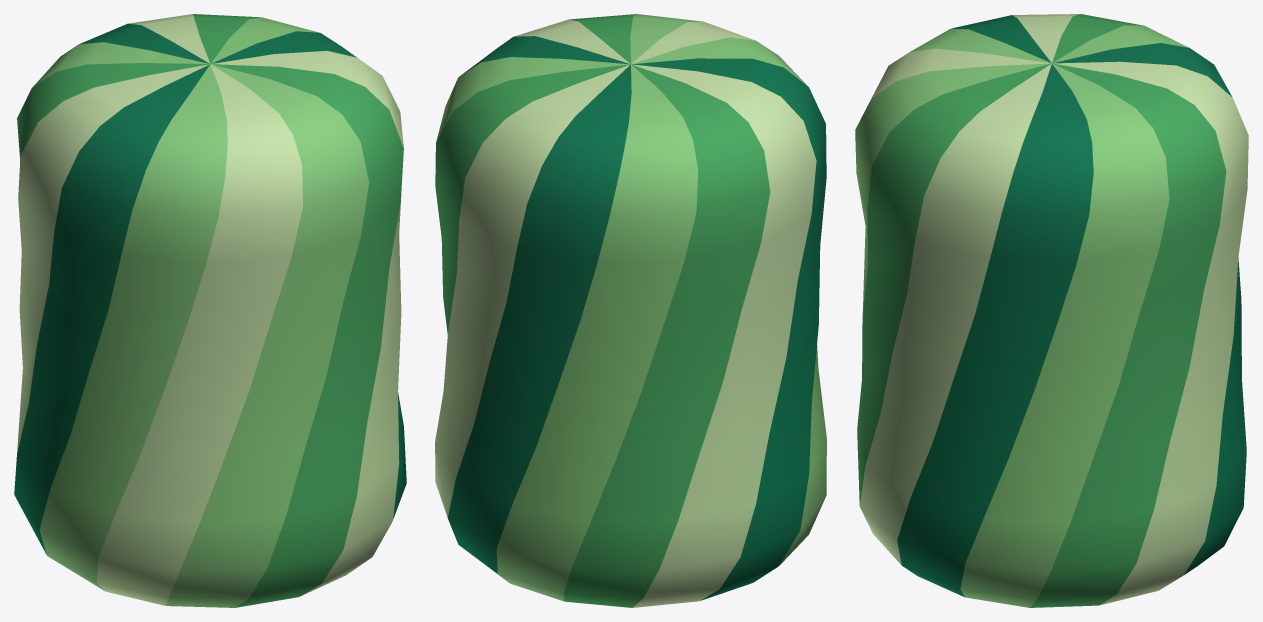
Rendered from candy_hard_20.fbx.
3 renders of one model, left to right at view 1: azimuth 30°, elevation 25°; view 2: azimuth 150°, elevation 25°; view 3: azimuth 270°, elevation 25°, orthographic.
Parts seen in each view (by area): view 1: c_h_20; view 2: c_h_20; view 3: c_h_20.
Boxes of the visible parts, left/top/right/bottom form: c_h_20: left=14, top=14, right=406, bottom=607; c_h_20: left=435, top=14, right=826, bottom=607; c_h_20: left=855, top=14, right=1248, bottom=607.
Size of the model in its own units: 118 by 163 by 118.
